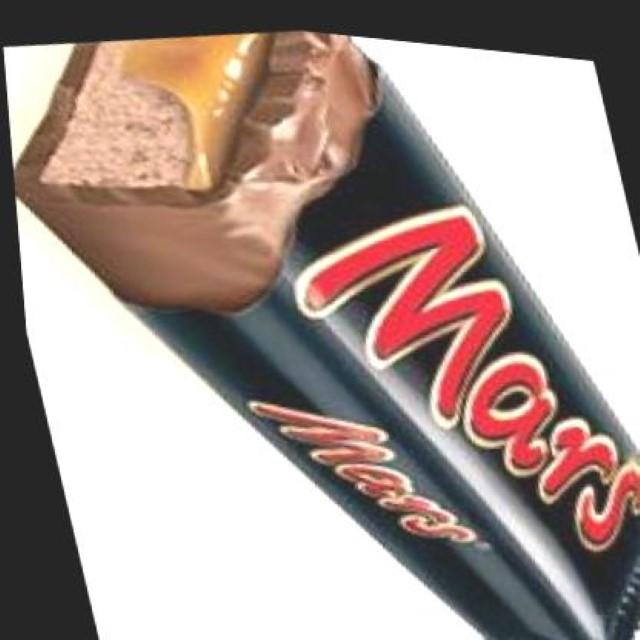mars_chocolate: (233, 115, 640, 640)
